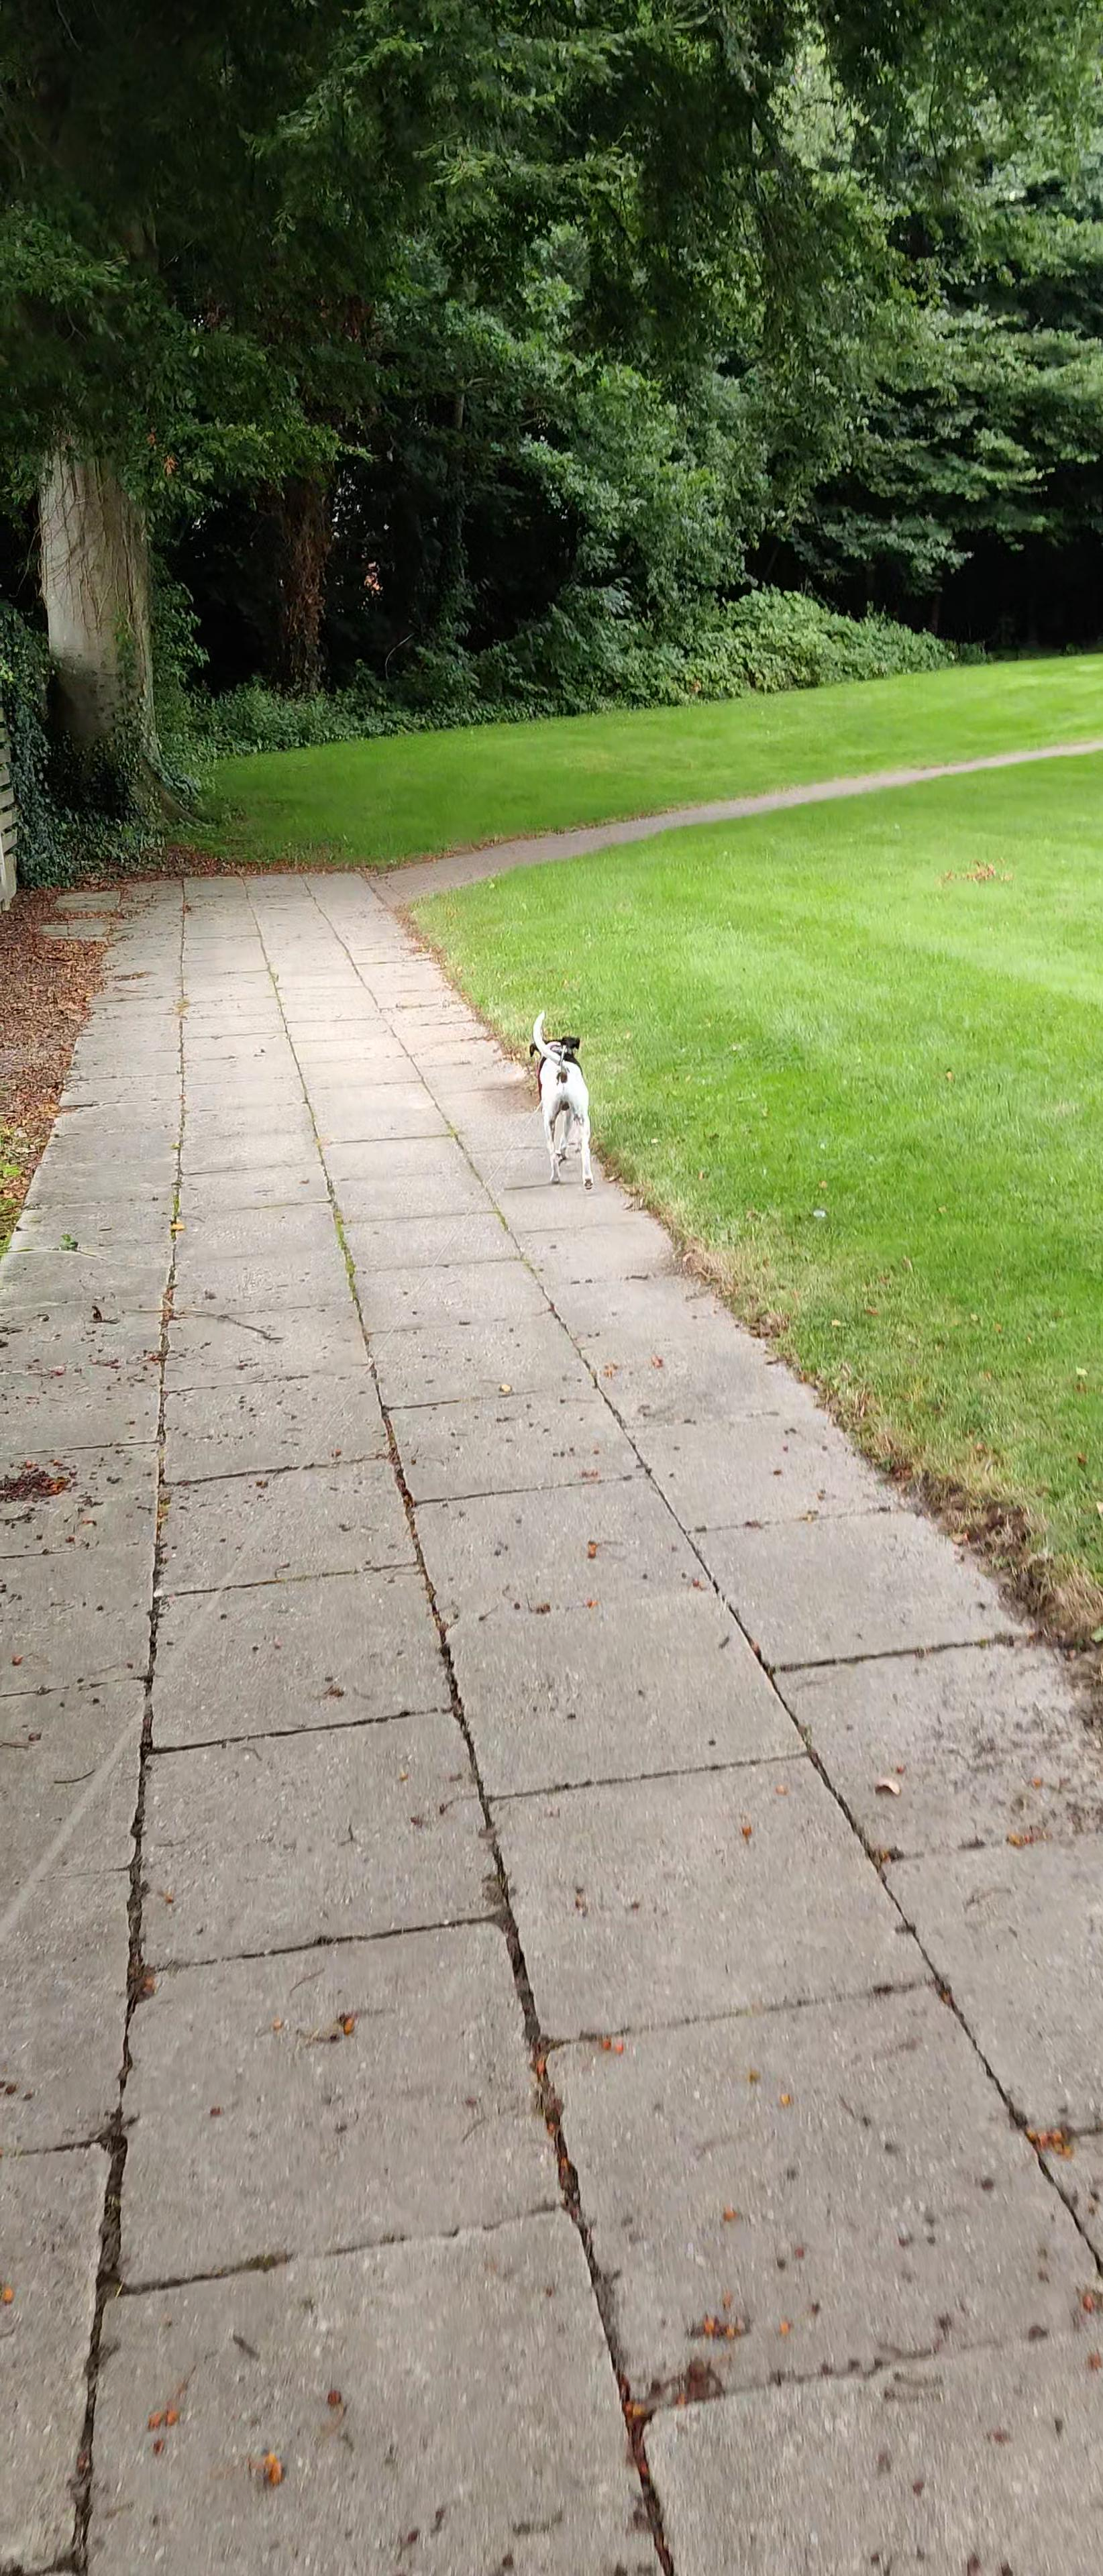Dog: (526, 1009, 597, 1191)
